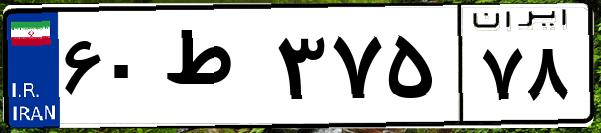0: (110, 28, 158, 98)
3: (270, 28, 330, 110)
5: (385, 28, 445, 110)
6: (57, 26, 110, 100)
7: (330, 28, 385, 110), (475, 38, 525, 113)
8: (525, 38, 570, 115)
ط: (158, 20, 270, 120)
